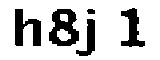1: (116, 9, 150, 50)
8: (45, 6, 81, 47)
h: (9, 5, 43, 49)
j: (78, 3, 99, 60)
